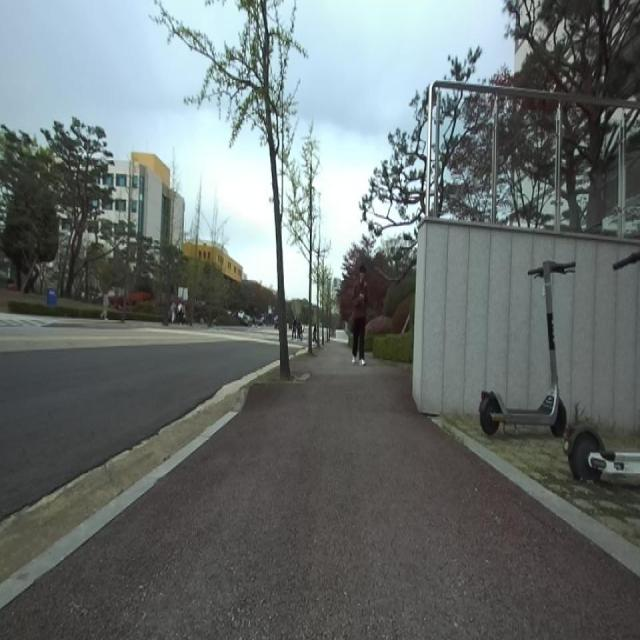sidewalk: (0, 341, 640, 639), (0, 412, 236, 609)
